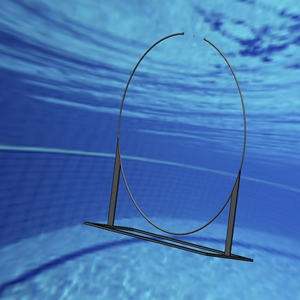circle: (87, 30, 253, 259)
